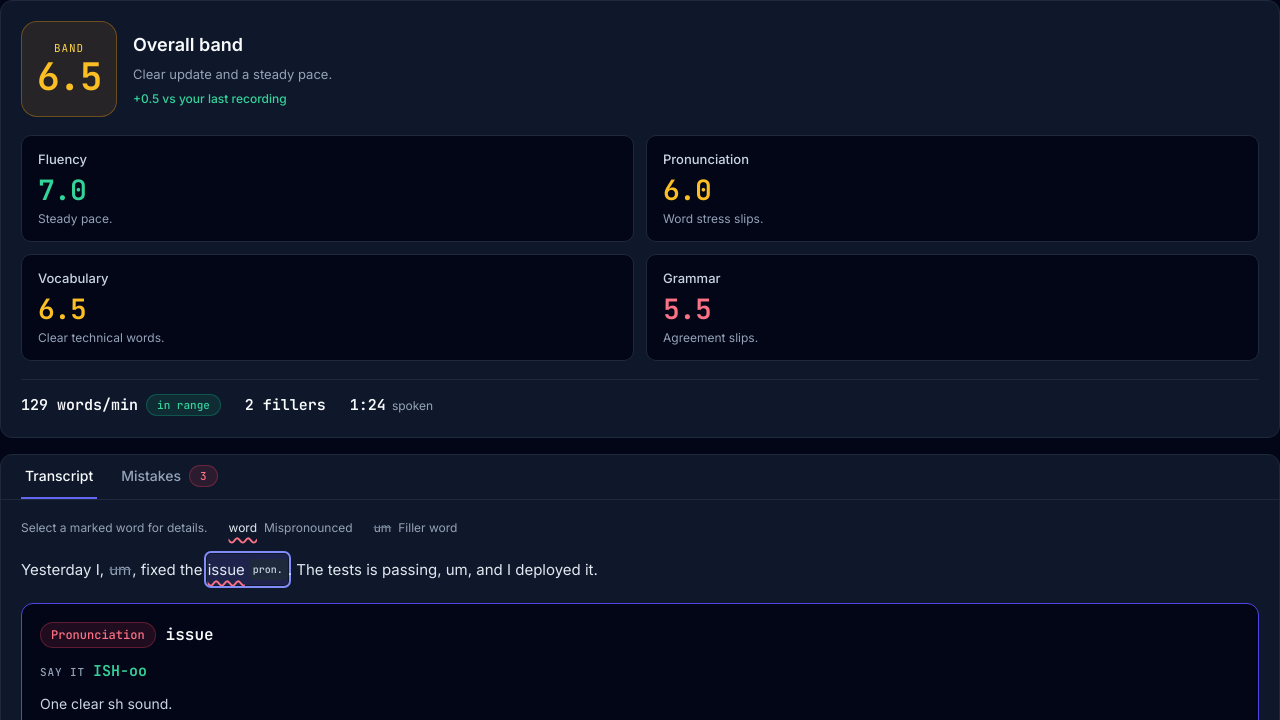
Test: GradingPanel transcript tab › says "Used once" for a single filler
Click the button with aria-label "Filler: um".
click(120, 569)  # box top-left (108, 554), bottom-right (132, 585)
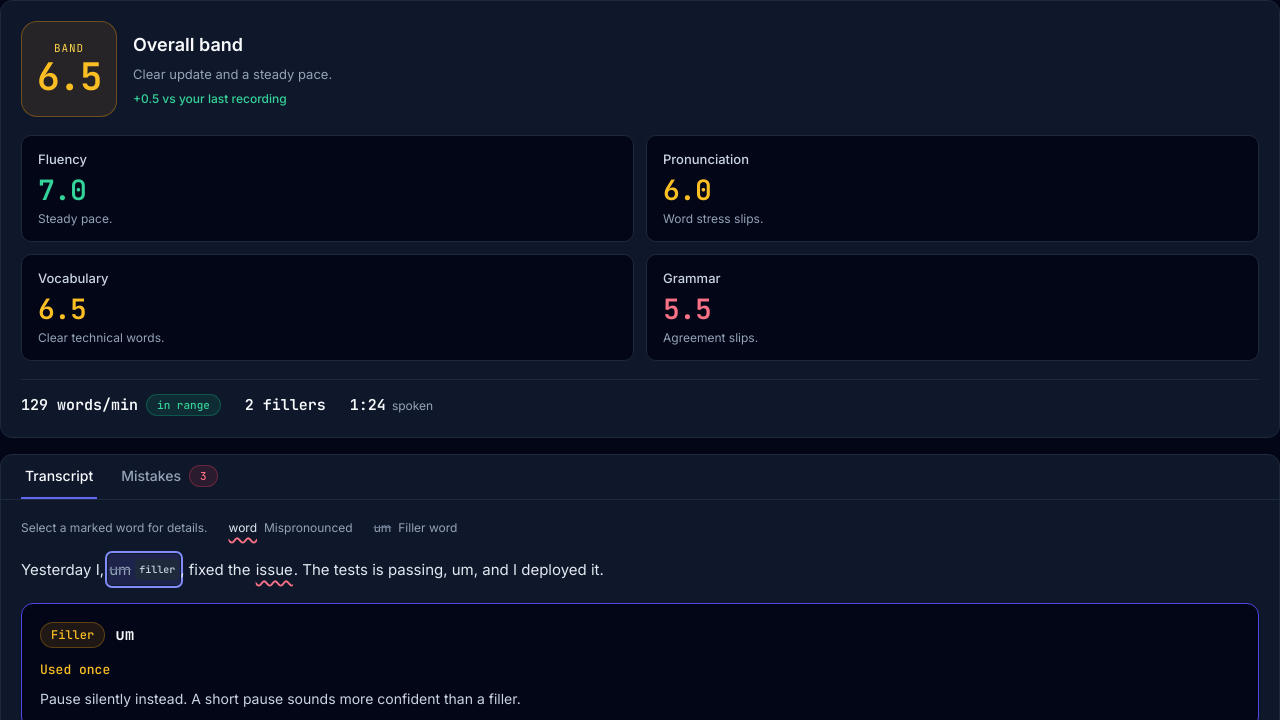
Result: the text "Used once" is shown at top-left (40, 661), bottom-right (110, 678)
